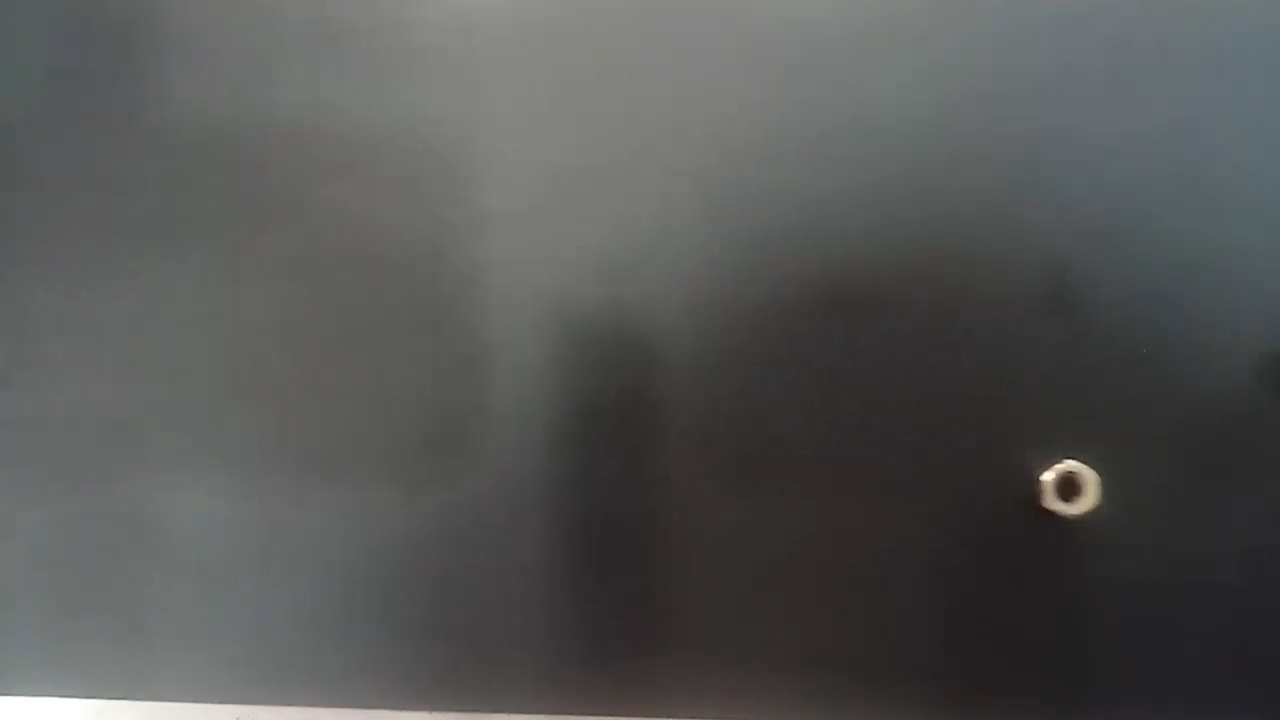Bolt: (1035, 452, 1103, 524)
